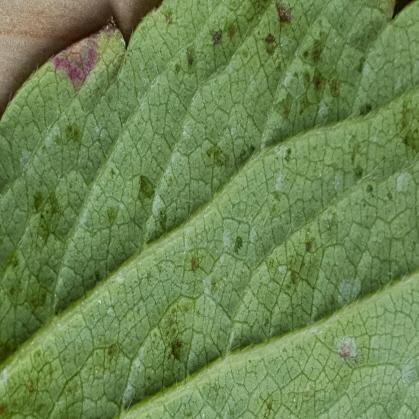Angular Leafspot: (0, 0, 418, 418)
